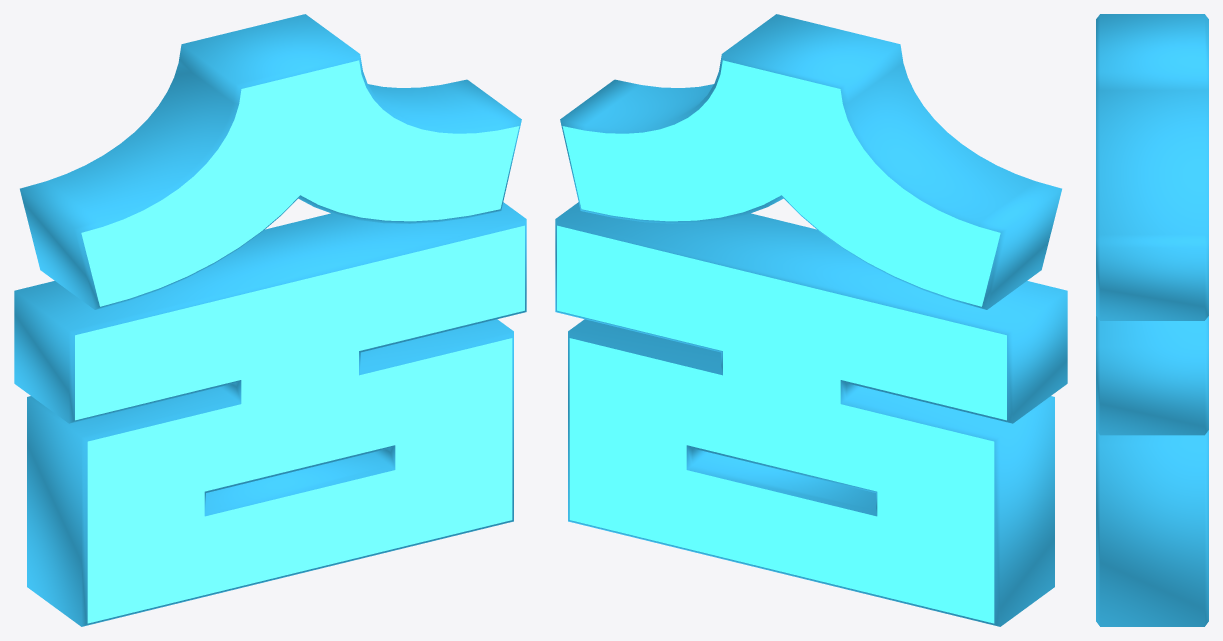
3 renders of one model, left to right at view 1: azimuth 30°, elevation 25°; view 2: azimuth 150°, elevation 25°; view 3: azimuth 270°, elevation 25°, orthographic. The views are drawn at different scales.
Visible parts, largest first — view 1: glyph; view 2: glyph; view 3: glyph.
Part boxes in pixels (left/top/right/bottom): glyph: left=14, top=14, right=526, bottom=626; glyph: left=555, top=14, right=1067, bottom=626; glyph: left=1096, top=14, right=1208, bottom=626.
Size of the model in its own units: 0.0725 by 0.0765 by 0.0162.
